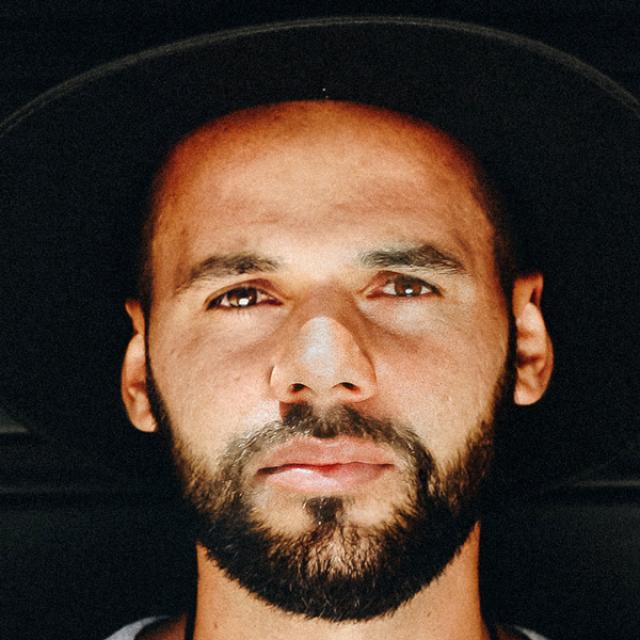face: (122, 96, 579, 618)
